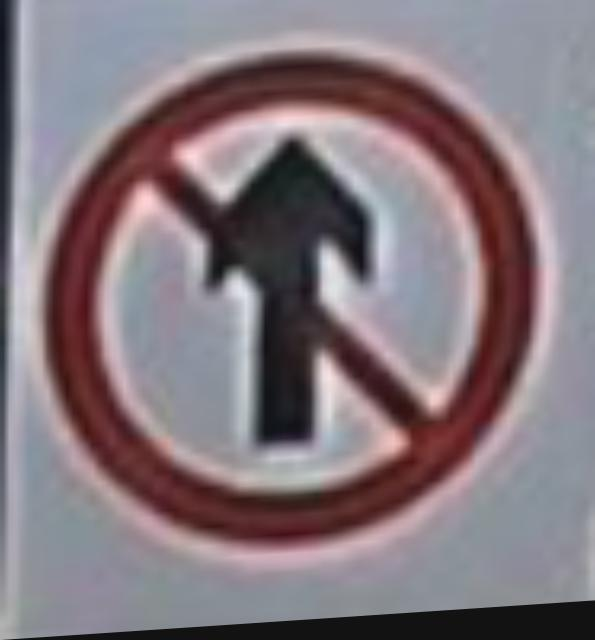not_go_straight: (29, 23, 563, 564)
